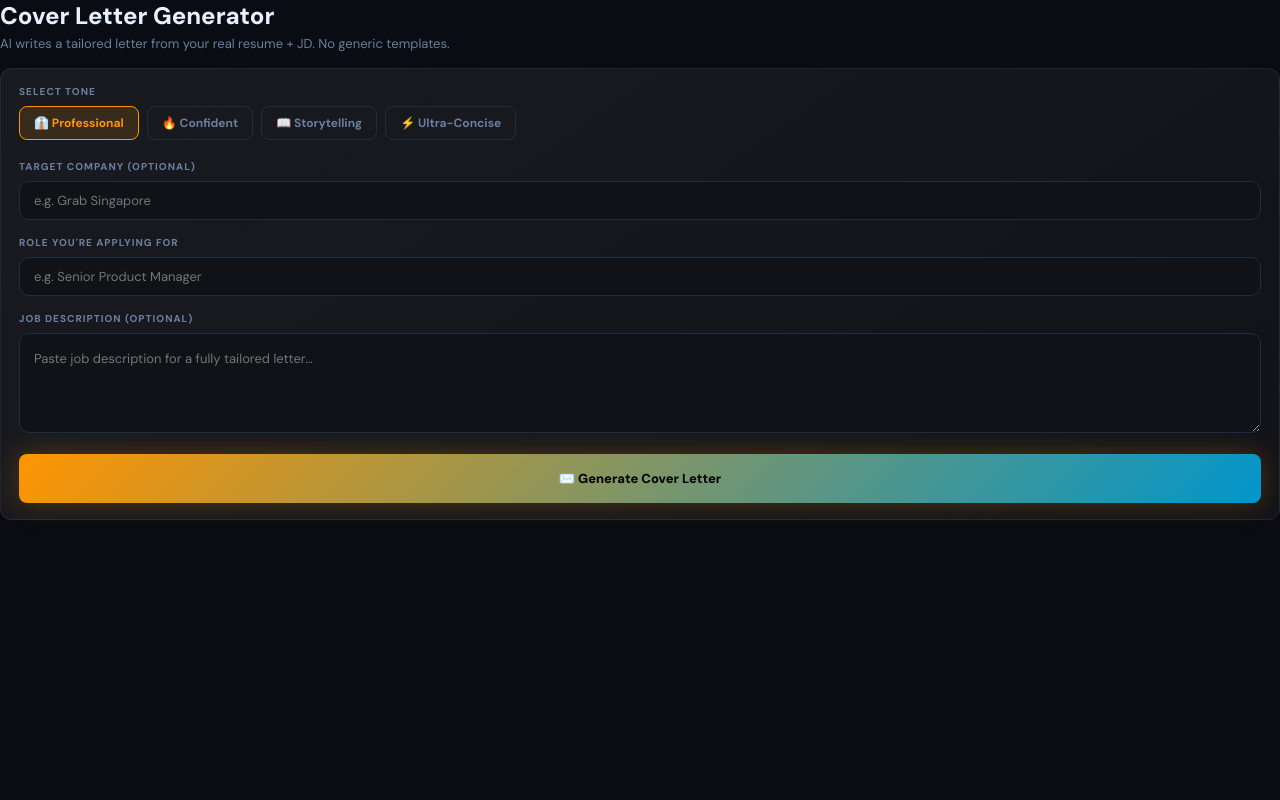
Scenario: CoverLetterGen › prefers the name from the structured resume
In the field named "Role": (640, 276) [19,257,1261,296], type "PM"
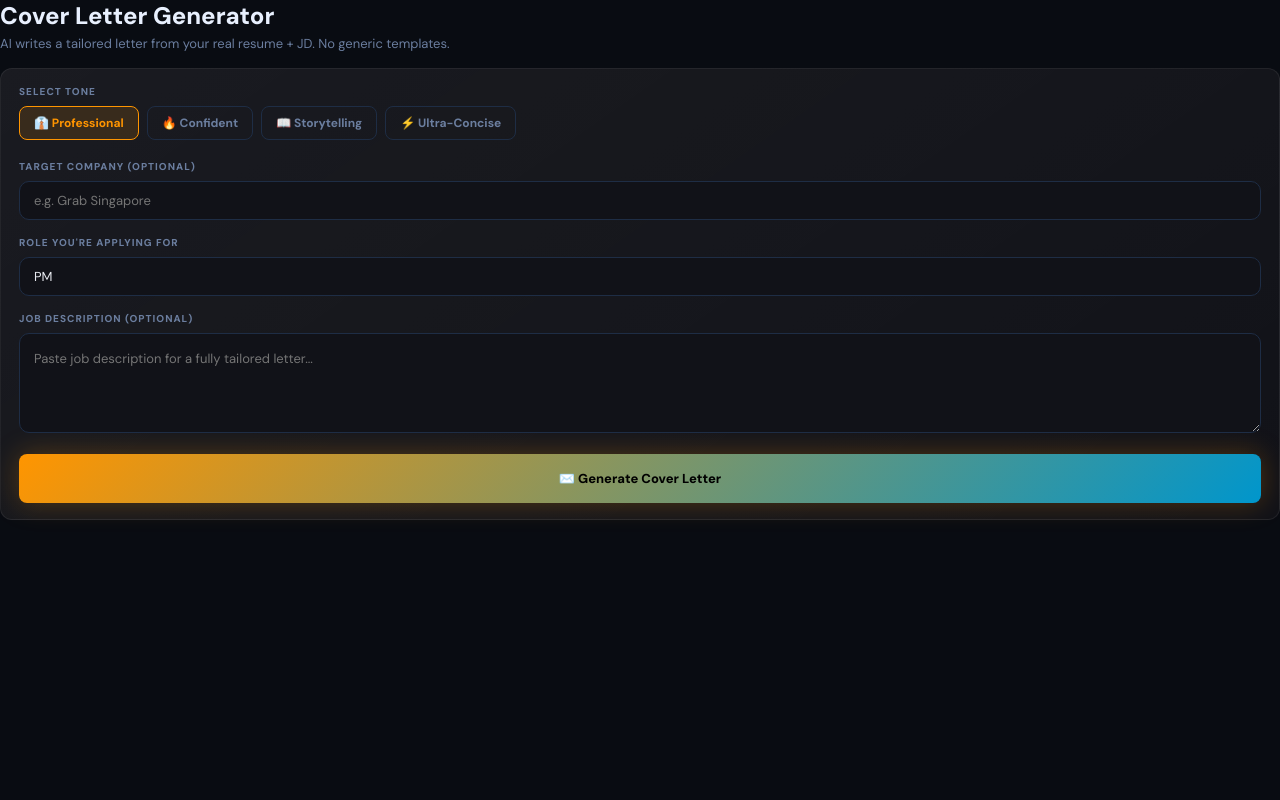
Click the button "✉️ Generate Cover Letter": (640, 478) [19,454,1261,503]
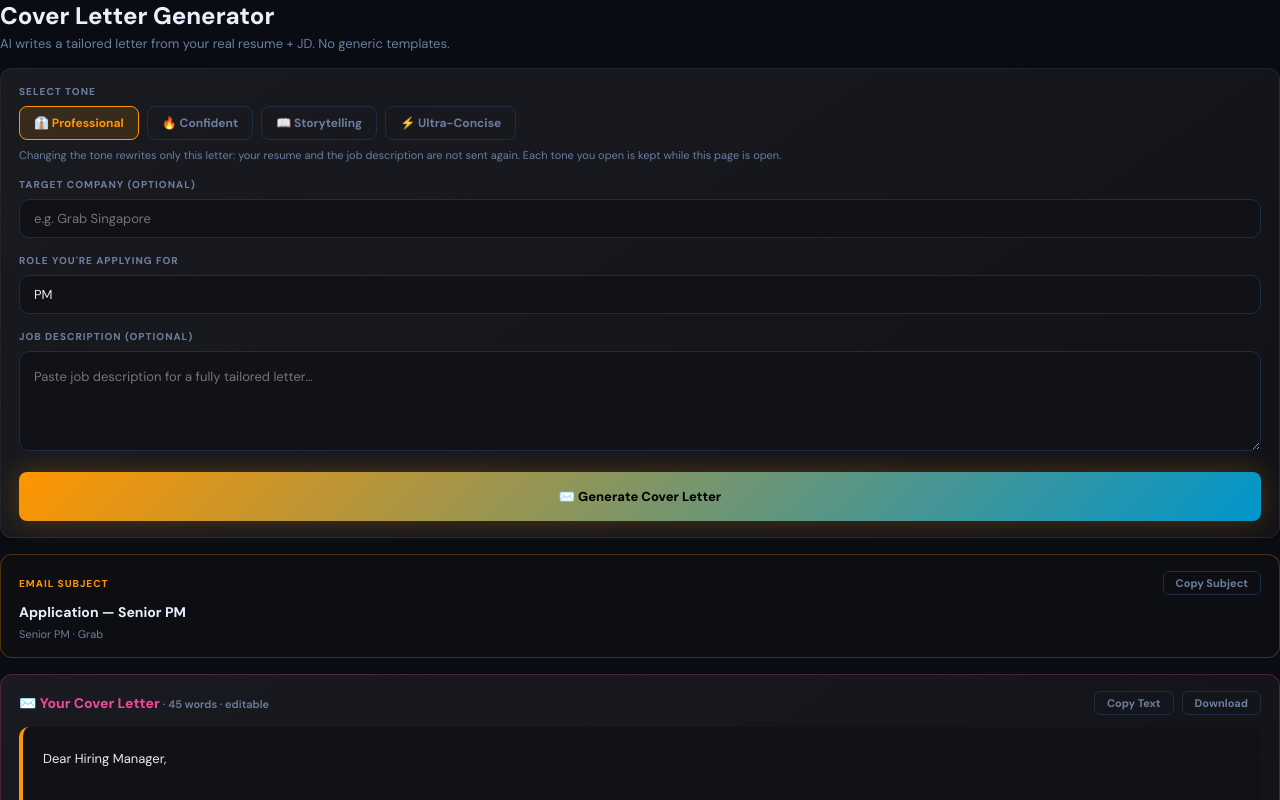
Result: the text "Application — Senior PM" is shown at [19,603,186,621]
